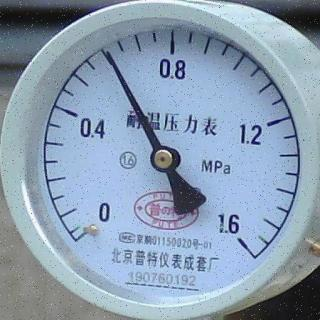gauge: (15, 13, 317, 308), (69, 198, 115, 252), (223, 222, 259, 258), (148, 144, 180, 174), (102, 47, 116, 61)
